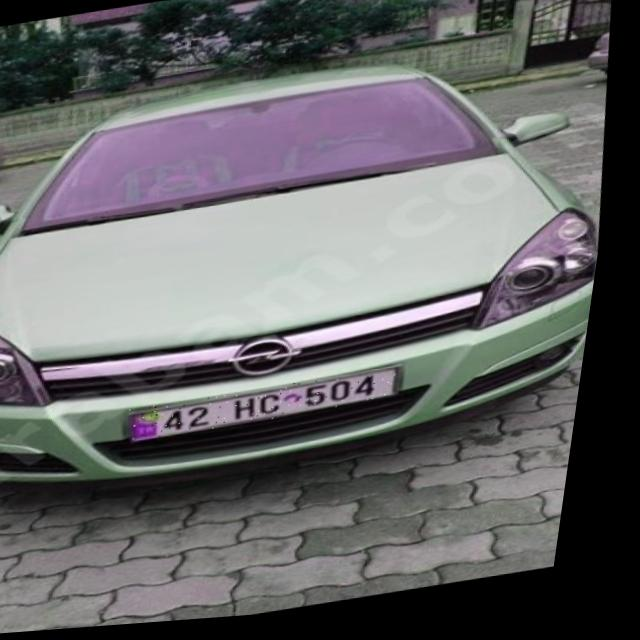license_plate: (137, 373, 413, 445)
